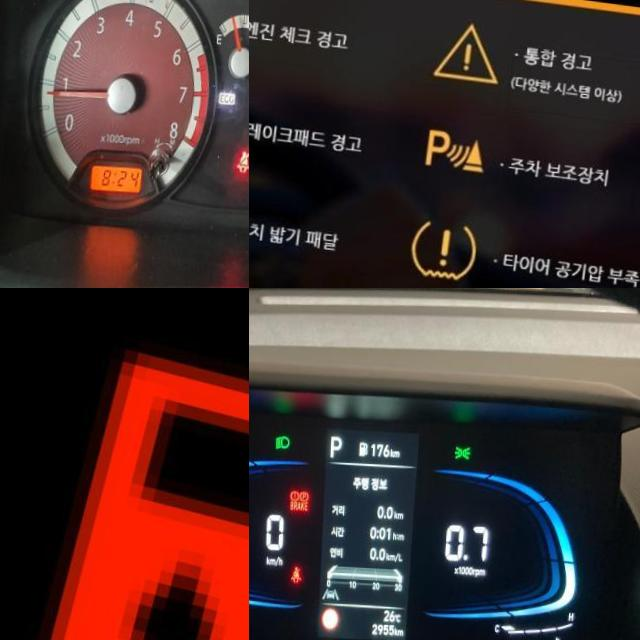Central Warning lamp: (431, 14, 504, 80)
Low beam: (276, 431, 292, 447)
Low fuel level: (0, 322, 249, 640)
SideLamp: (456, 441, 473, 456)
